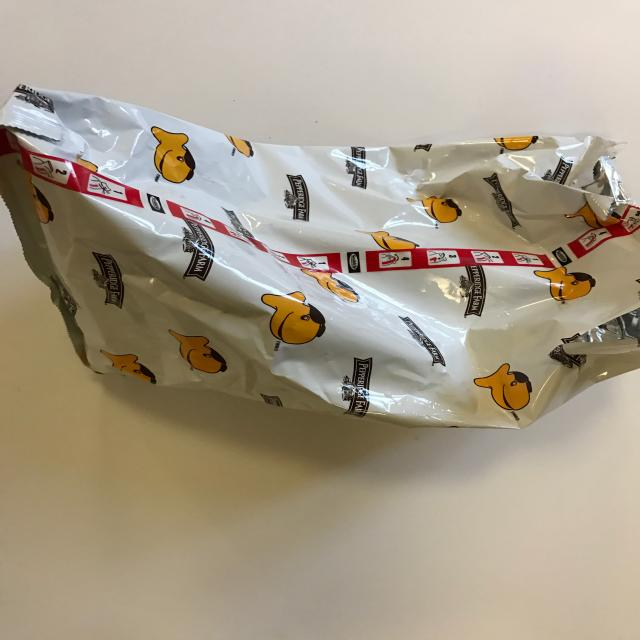trash: (1, 83, 639, 430)
